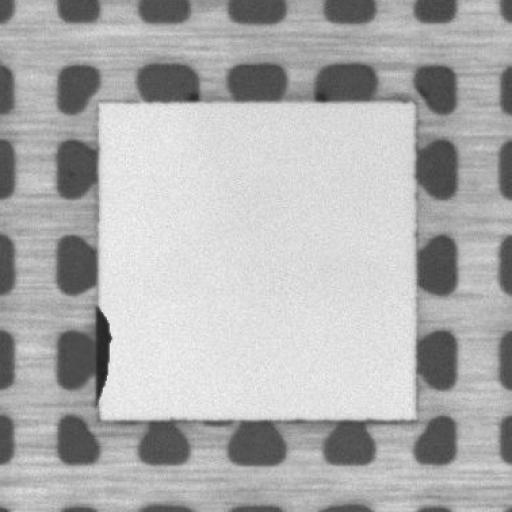DIE_BROKEN: (90, 304, 114, 398)
